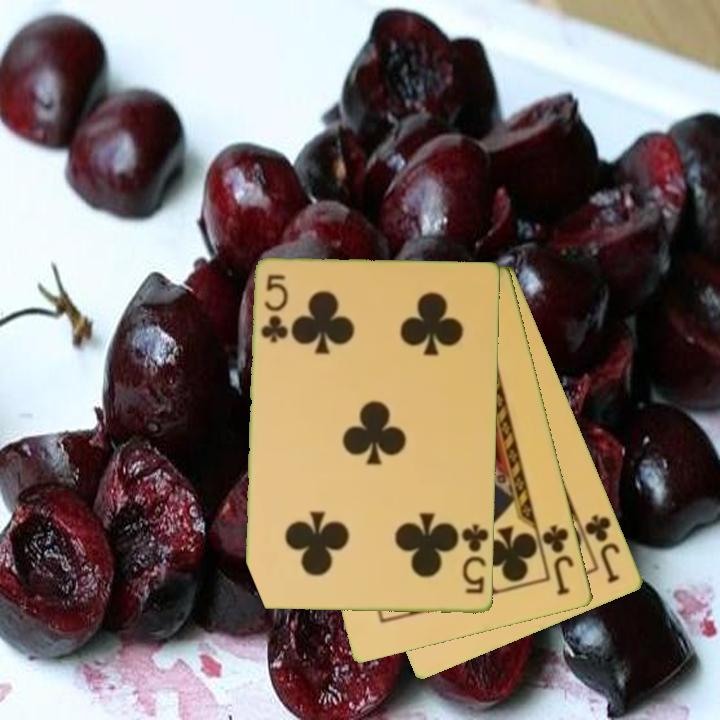5c: (455, 521, 491, 597), (257, 271, 290, 347)
Jc: (581, 511, 623, 587), (539, 521, 578, 599)
